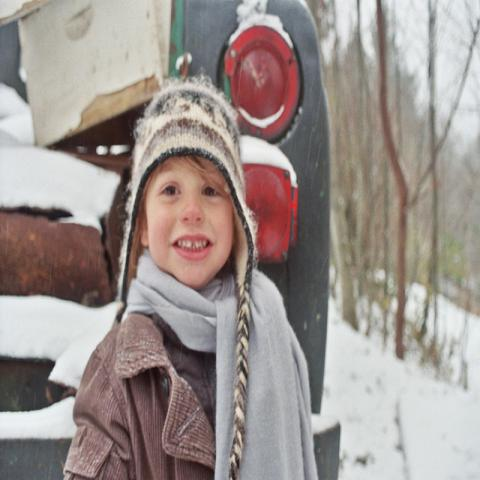truck: (0, 0, 344, 479)
